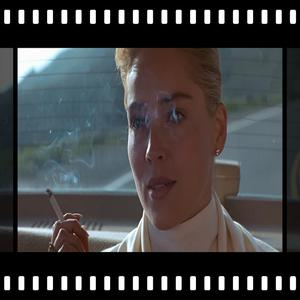cigarette: (45, 189, 66, 223)
